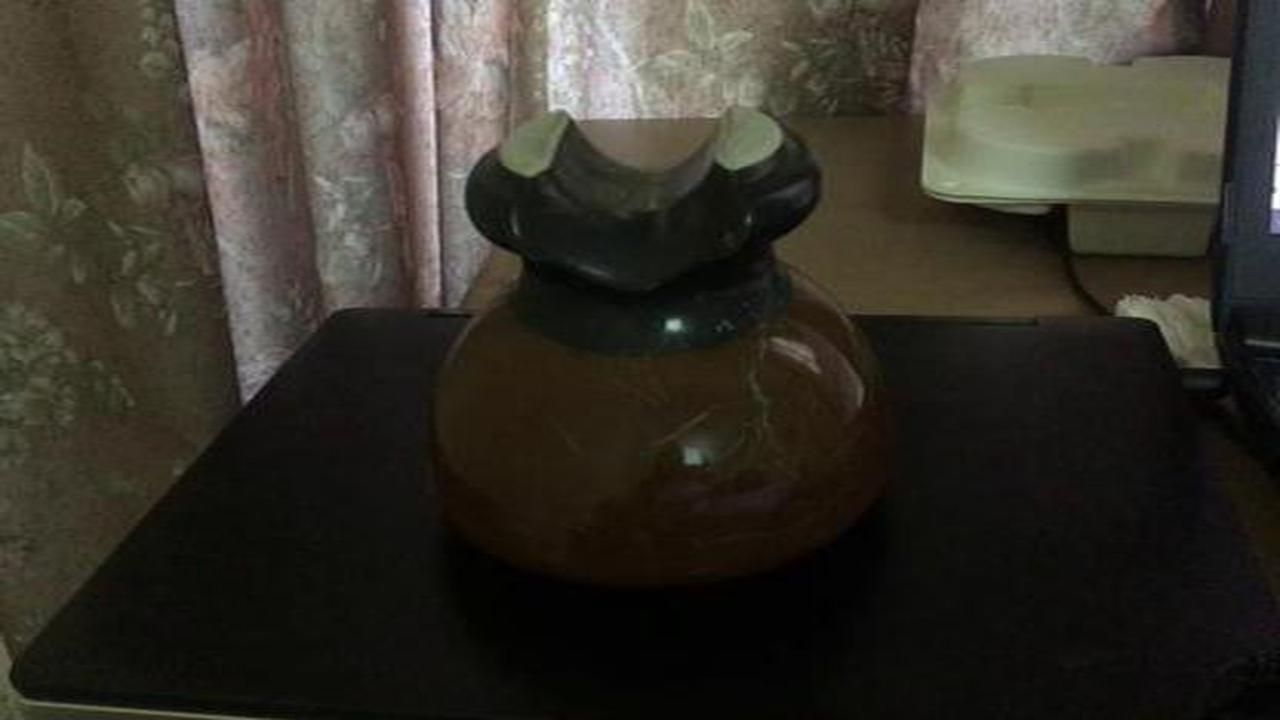insulator_pin: (404, 103, 936, 615)
